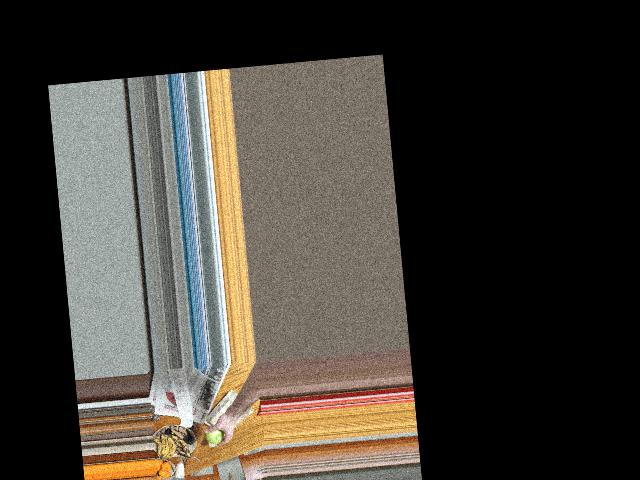apple: (205, 426, 228, 445)
